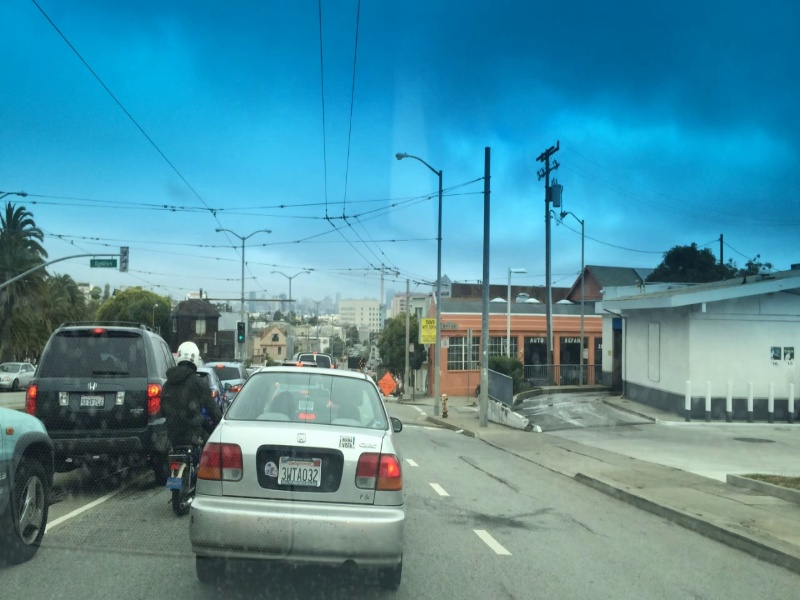car: (212, 358, 406, 596), (19, 311, 166, 475), (1, 359, 57, 579), (1, 353, 37, 391)
cyclist: (158, 340, 233, 521)
